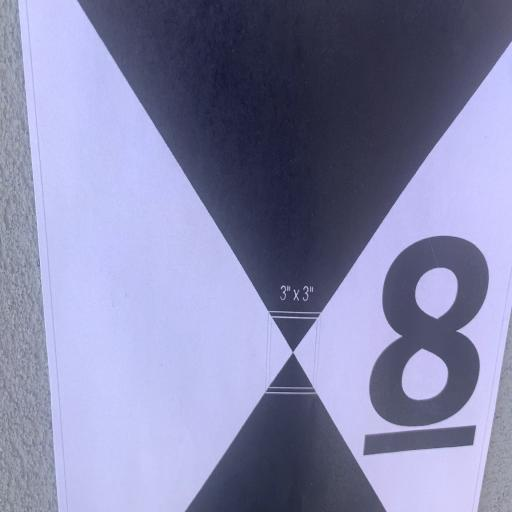target8: (18, 0, 511, 512)
